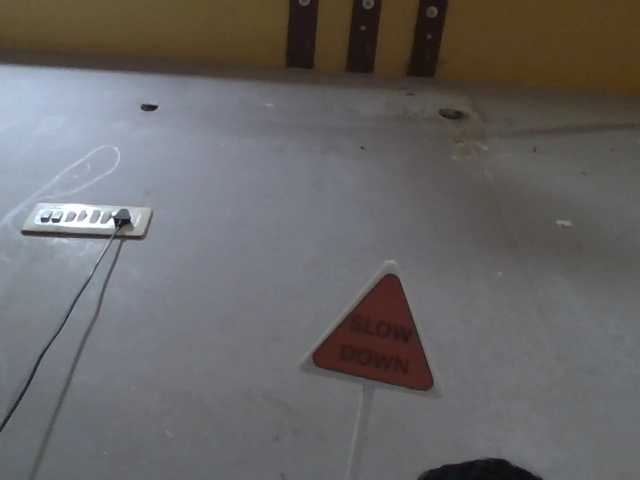slowdown: (299, 242, 442, 404)
